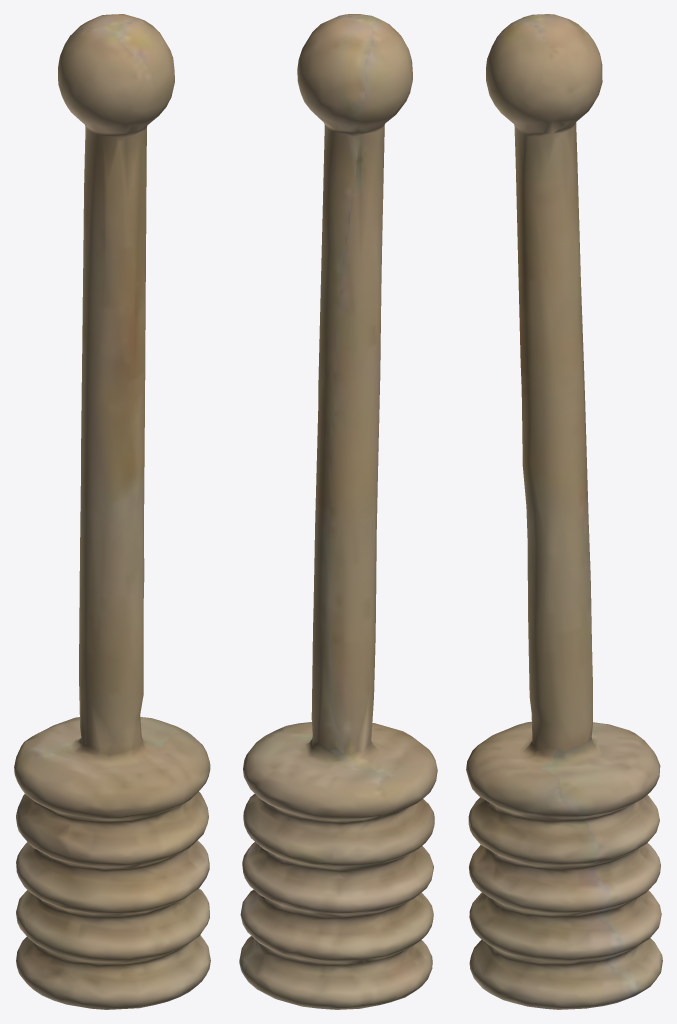
Rendered from Cole_Hardware_Mini_Honey_Dipper-high.glb.
The picture shows the model from 3 angles, left to right: view 1: azimuth 30°, elevation 25°; view 2: azimuth 150°, elevation 25°; view 3: azimuth 270°, elevation 25°; orthographic projection.
Visible parts, largest first — view 1: Cole_Hardware_Mini_Honey_Dipper; view 2: Cole_Hardware_Mini_Honey_Dipper; view 3: Cole_Hardware_Mini_Honey_Dipper.
Part boxes in pixels (x1,y1,x2,y2): Cole_Hardware_Mini_Honey_Dipper: (14, 14, 210, 1009); Cole_Hardware_Mini_Honey_Dipper: (239, 14, 437, 1009); Cole_Hardware_Mini_Honey_Dipper: (466, 14, 662, 1009).
Bounding box in the file's own units: 0.0208 × 0.1105 × 0.0207.
Materials: 1 (1 with a texture image).
